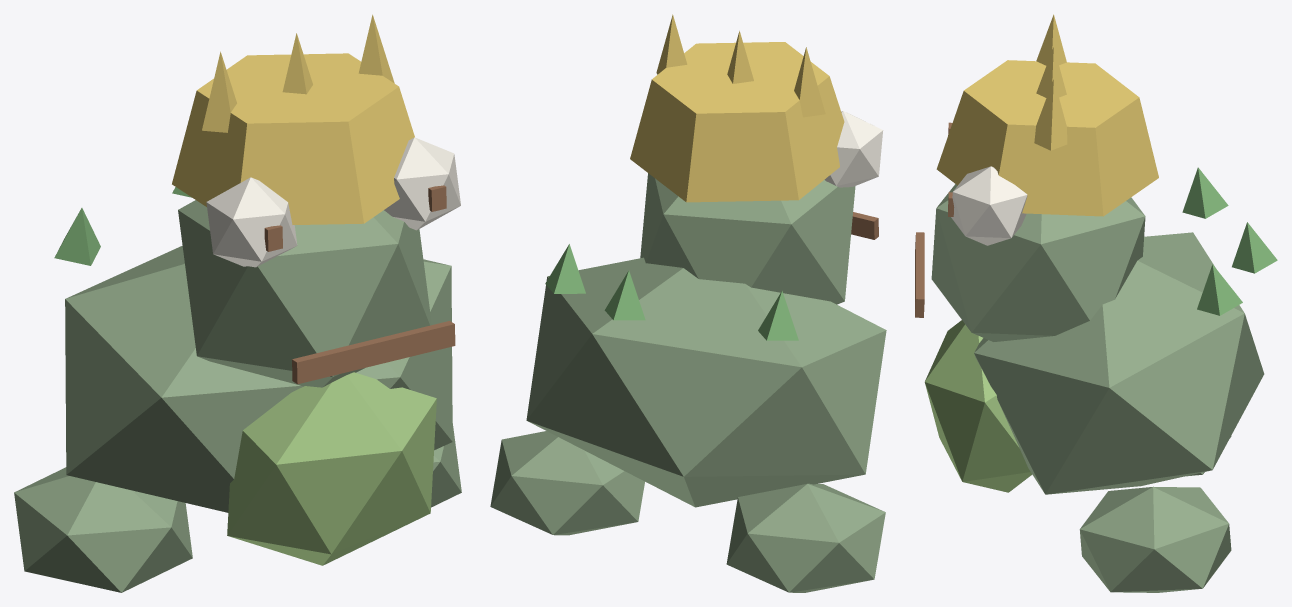
File: npcpose_toad_king_attack_09.glb
3 views of the same model, side by side, from view 1: azimuth 30°, elevation 25°; view 2: azimuth 150°, elevation 25°; view 3: azimuth 270°, elevation 25° (orthographic). The views are drawn at different scales.
Parts seen in each view (by area): view 1: npcpose; view 2: npcpose; view 3: npcpose.
Boxes of the visible parts, left/top/right/bottom form: npcpose: left=14, top=14, right=461, bottom=592; npcpose: left=490, top=14, right=886, bottom=592; npcpose: left=915, top=14, right=1277, bottom=592.
Bounding box in the file's own units: 1.75 × 2.21 × 1.49.
